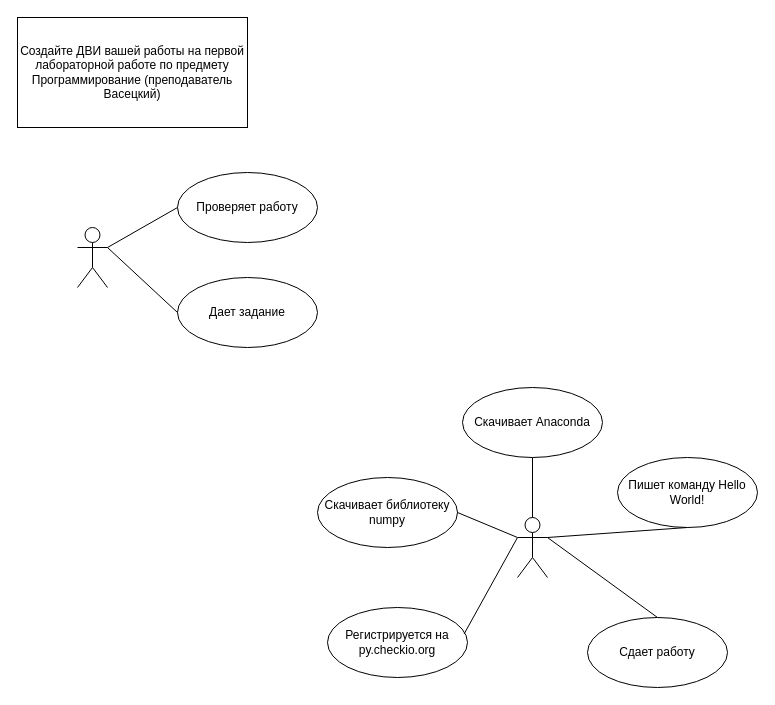
Some shapes in this 775 by 705 pixel diagram are drawn without their labels. Here are the shapes that lost their labels. From the top down, the centre of each, then its label:
At (x=92, y=257): "Васецкий А.М.".
At (x=532, y=547): "Студент".
